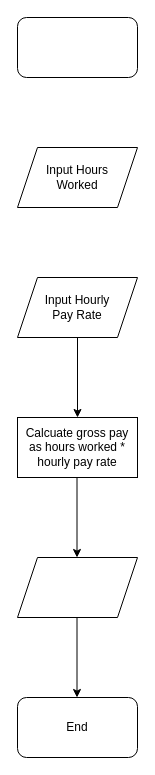
Image size: 155x775. Some labels were removed from this diagram. The centre of each missing label's shape, as x and y in pixels:
Display Gross Pay: point 77,587
Start: point 77,47
